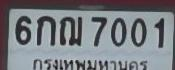0: (130, 17, 146, 46), (110, 17, 126, 46)
1: (154, 17, 163, 47)
6: (14, 15, 30, 44)
7: (91, 16, 106, 46)
A01: (36, 15, 55, 45)
A12: (59, 15, 82, 45)
BKK: (29, 56, 150, 70)
